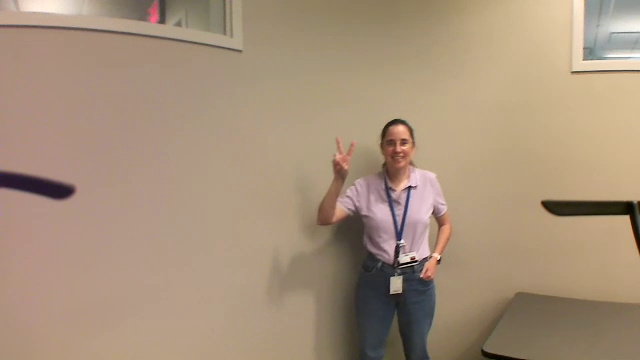peace: (331, 135, 361, 178)
